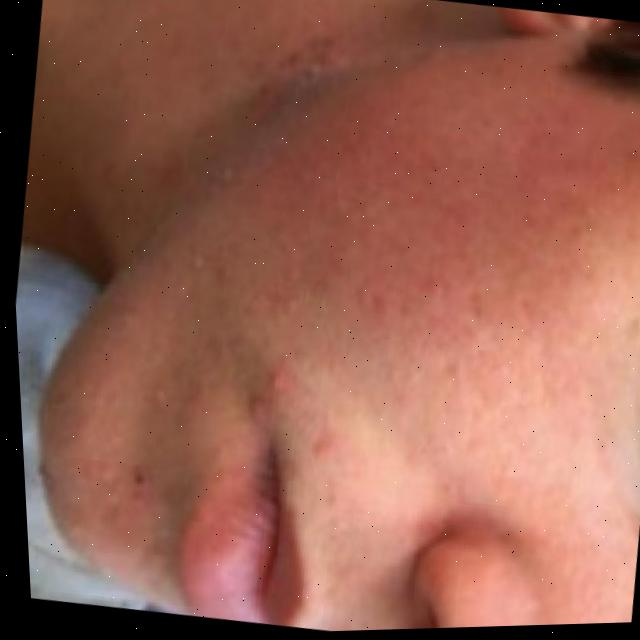Acne: (129, 0, 596, 457)
